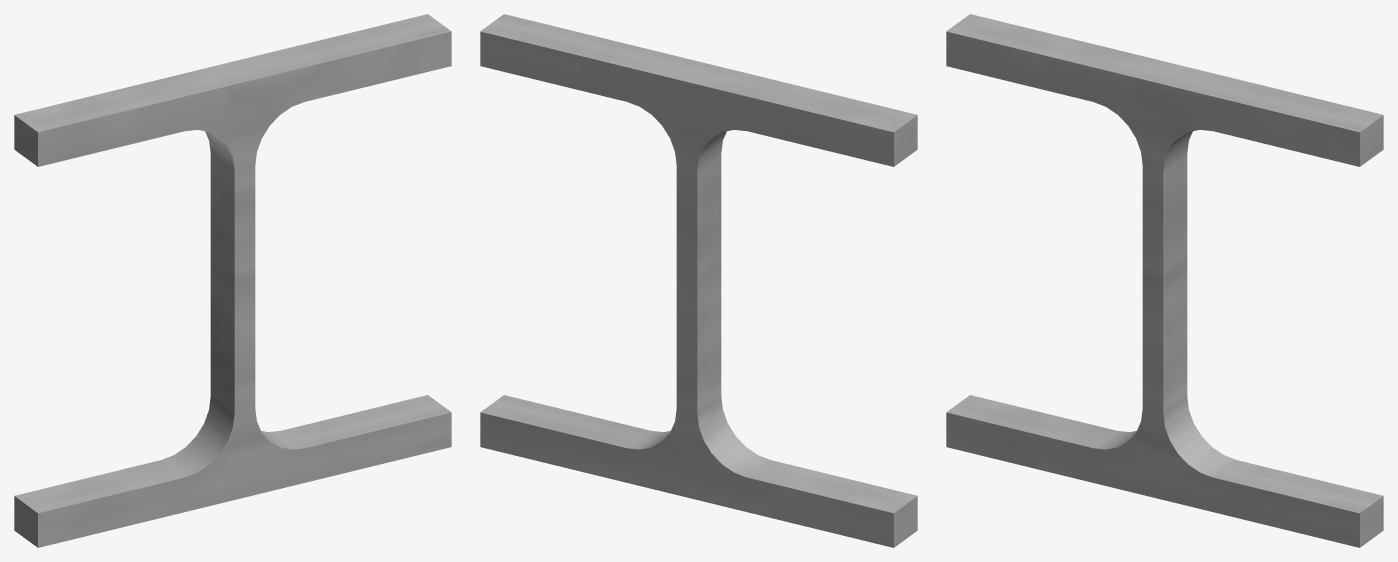
Rendered from HEA100.glb.
The picture shows the model from 3 angles, left to right: view 1: azimuth 30°, elevation 25°; view 2: azimuth 150°, elevation 25°; view 3: azimuth 330°, elevation 25°; orthographic projection.
Size of the model in its own units: 10 by 9.6 by 1.
1 material, 1 textured.
